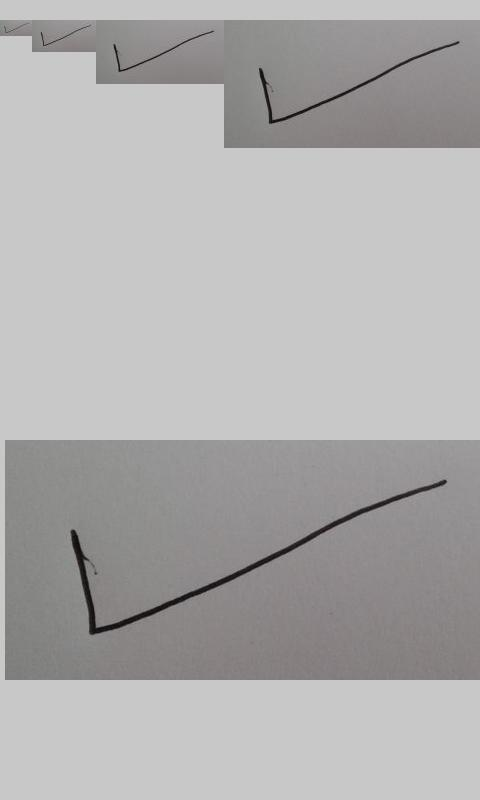check_box: (70, 481, 446, 635), (259, 40, 461, 125), (113, 31, 214, 72), (40, 24, 91, 47), (4, 23, 28, 34)
